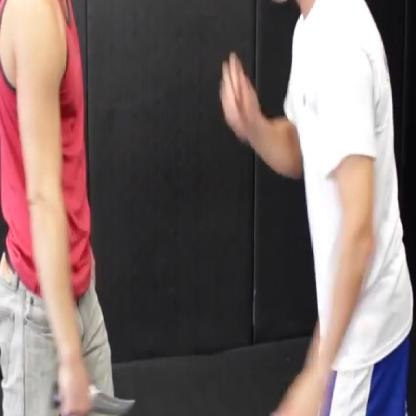knife: (44, 366, 145, 415)
